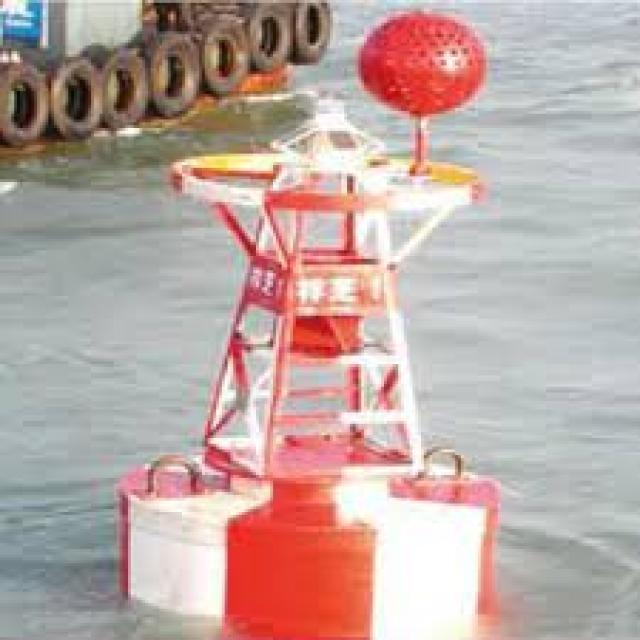2.4 safe water mark: (107, 4, 542, 630)
